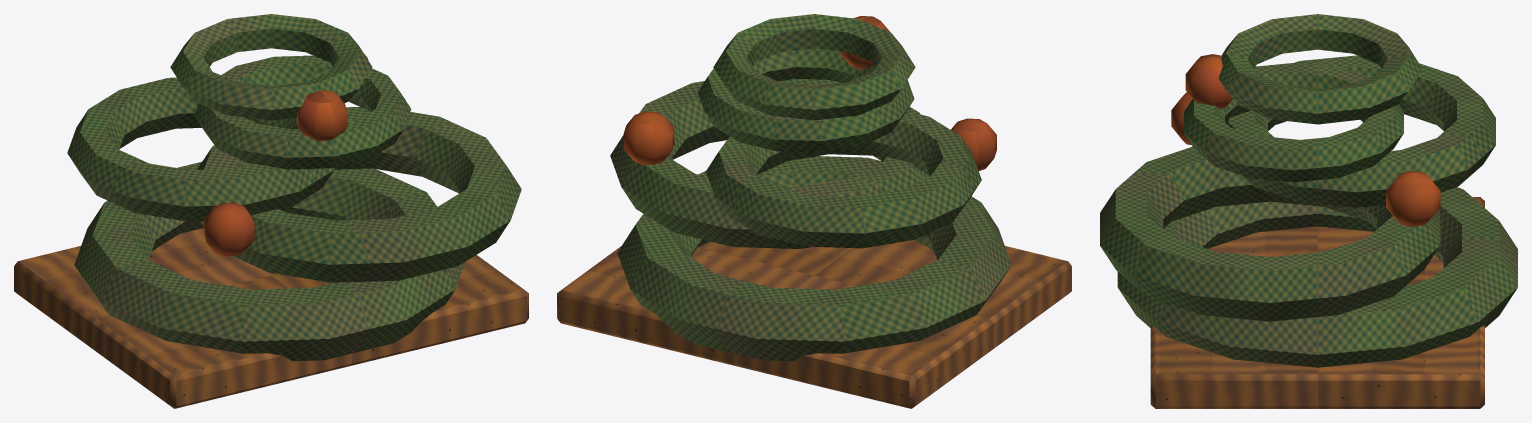
File: prop_net_bundle.glb
3 renders of one model, left to right at view 1: azimuth 30°, elevation 25°; view 2: azimuth 150°, elevation 25°; view 3: azimuth 270°, elevation 25°, orthographic. The views are drawn at different scales.
Parts seen in each view (by area): view 1: Net, Wood, Rust; view 2: Net, Wood, Rust; view 3: Net, Wood, Rust.
Part boxes in pixels (bbox=[...]): Net: bbox=[67, 14, 521, 361]; Wood: bbox=[14, 228, 528, 408]; Rust: bbox=[204, 54, 368, 256]; Net: bbox=[610, 14, 1011, 361]; Wood: bbox=[557, 239, 1071, 408]; Rust: bbox=[623, 16, 996, 170]; Net: bbox=[1100, 14, 1517, 367]; Wood: bbox=[1150, 197, 1484, 408]; Rust: bbox=[1171, 54, 1440, 226].
Size of the model in its own units: 0.9655 by 0.618 by 0.8756.
Materials: 3 (3 with a texture image).
